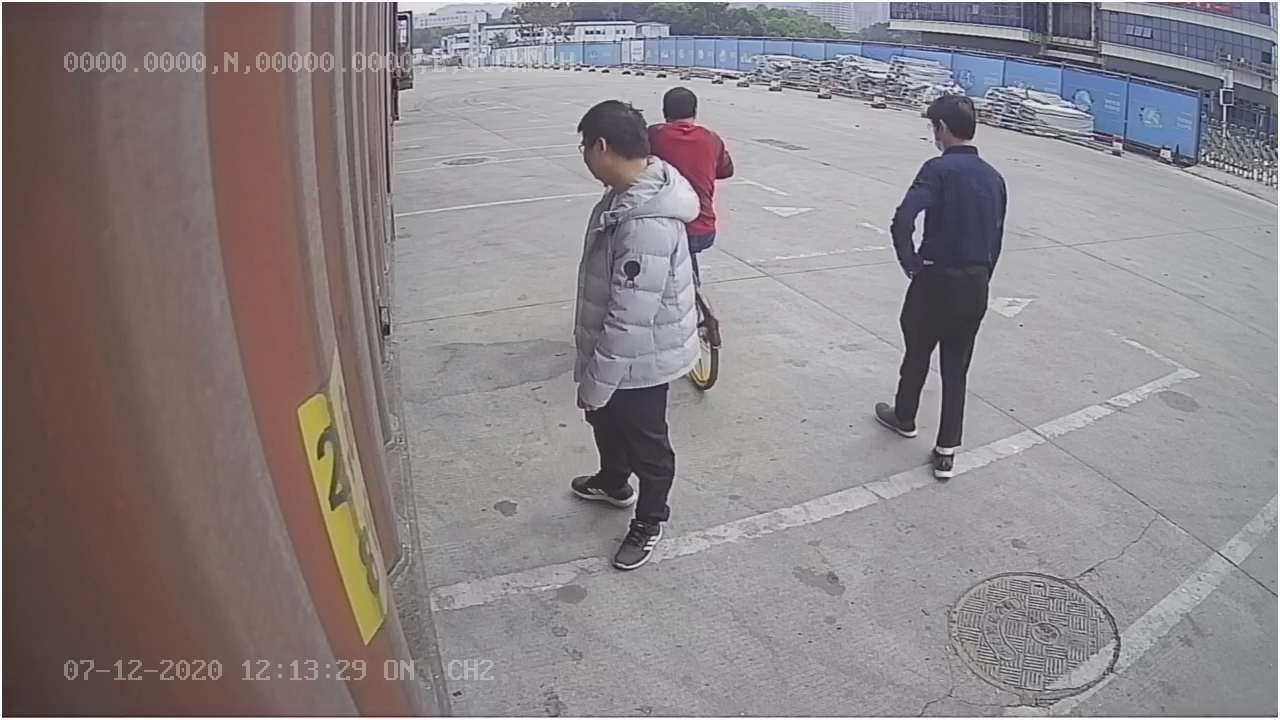person: (872, 88, 1019, 481)
